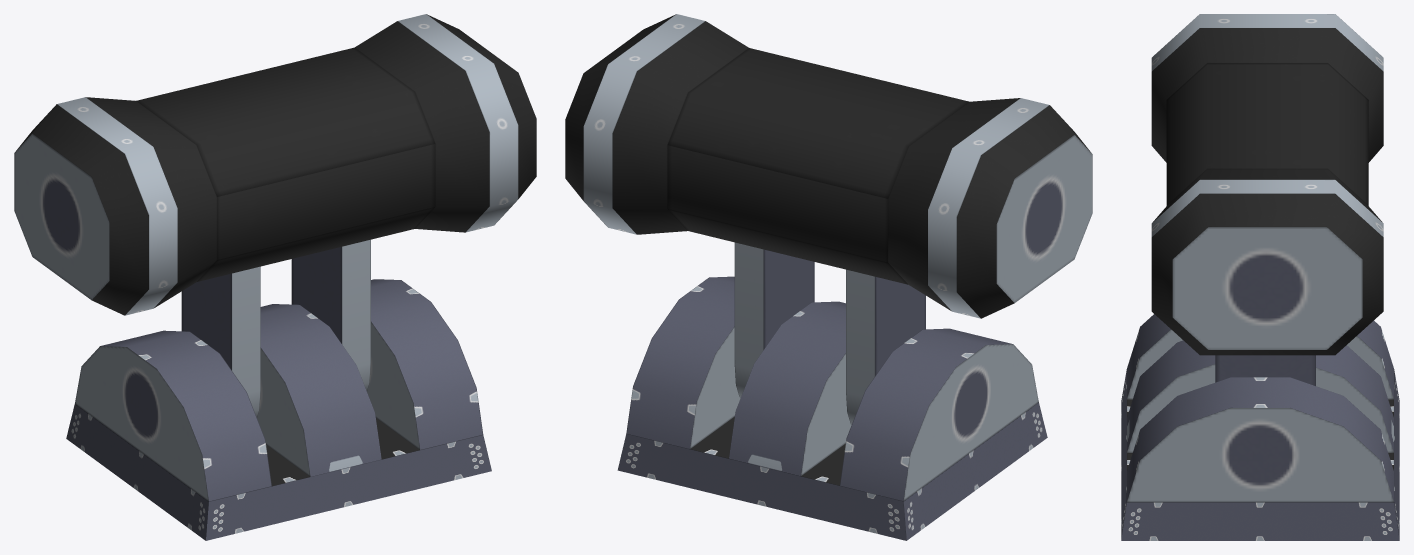
Rendered from Speed_Throttle_01.FBX.
3 renders of one model, left to right at view 1: azimuth 30°, elevation 25°; view 2: azimuth 150°, elevation 25°; view 3: azimuth 270°, elevation 25°, orthographic.
Visible parts, largest first — view 1: Handle, Speed_Throttle_01; view 2: Handle, Speed_Throttle_01; view 3: Handle, Speed_Throttle_01.
Boxes of the visible parts, x1,y1,x2,y2 form: Handle: (14,14,536,417); Speed_Throttle_01: (66,279,491,540); Handle: (565,14,1092,424); Speed_Throttle_01: (617,276,1047,540); Handle: (1151,14,1383,385); Speed_Throttle_01: (1121,314,1399,540).
Bounding box in the file's own units: 1.12 × 0.9247 × 0.6354.
Materials: 2 (2 with a texture image).
